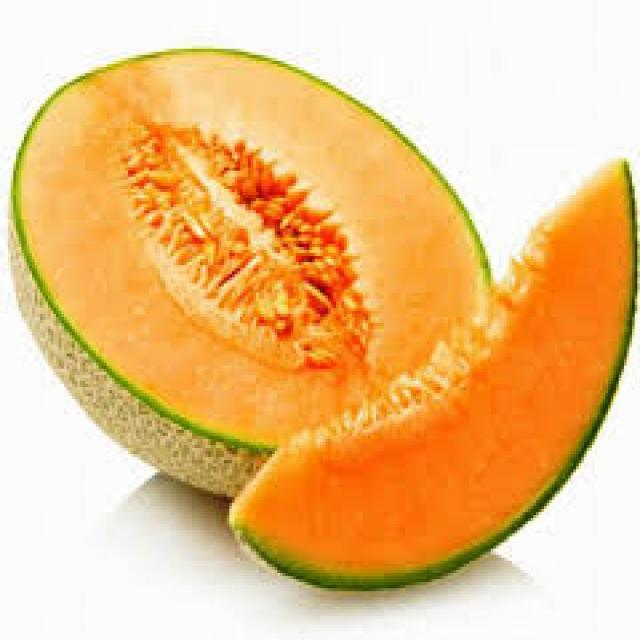Hami Melon: (9, 49, 496, 498)
